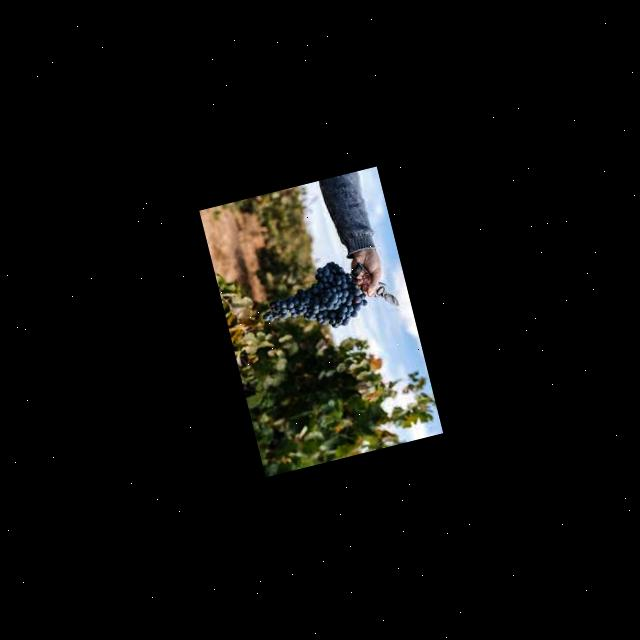grape: (252, 254, 372, 344)
